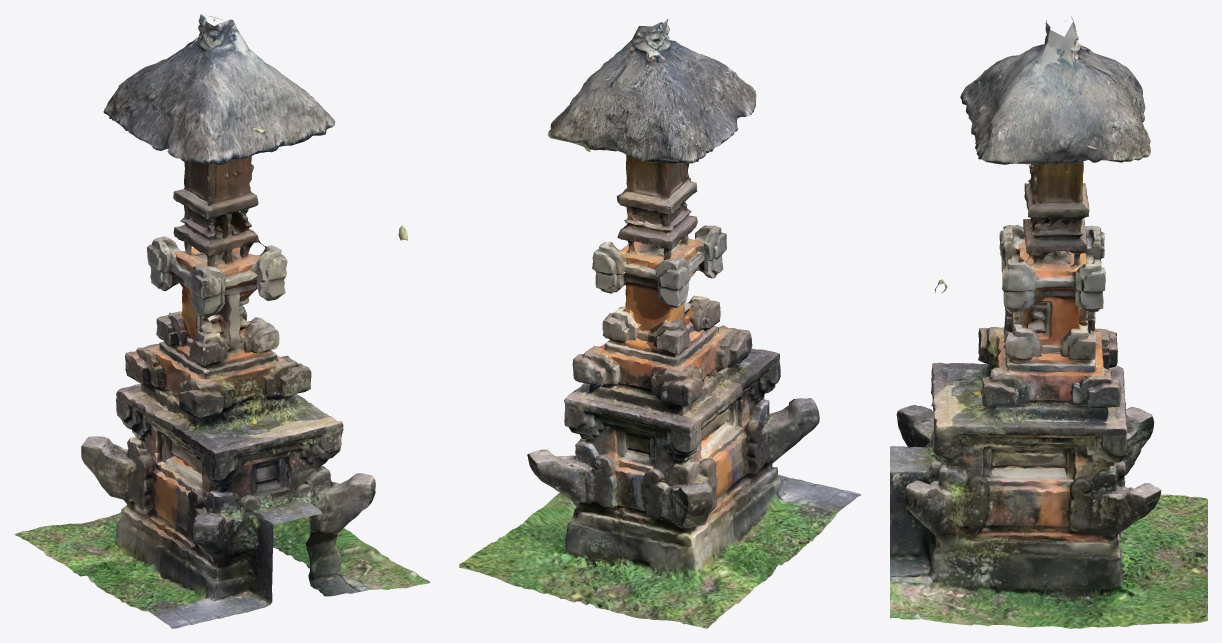
File: artefak_taksu_bali.glb
3 renders of one model, left to right at view 1: azimuth 30°, elevation 25°; view 2: azimuth 150°, elevation 25°; view 3: azimuth 270°, elevation 25°, orthographic. The views are drawn at different scales.
Parts seen in each view (by area): view 1: Object_4; view 2: Object_4; view 3: Object_4.
Part boxes in pixels (x1,y1,x2,y2): Object_4: [14, 14, 430, 628]; Object_4: [459, 19, 861, 628]; Object_4: [890, 16, 1207, 628].
Bounding box in the file's own units: 1.54 × 3.16 × 1.65.
Materials: 1 (1 with a texture image).
